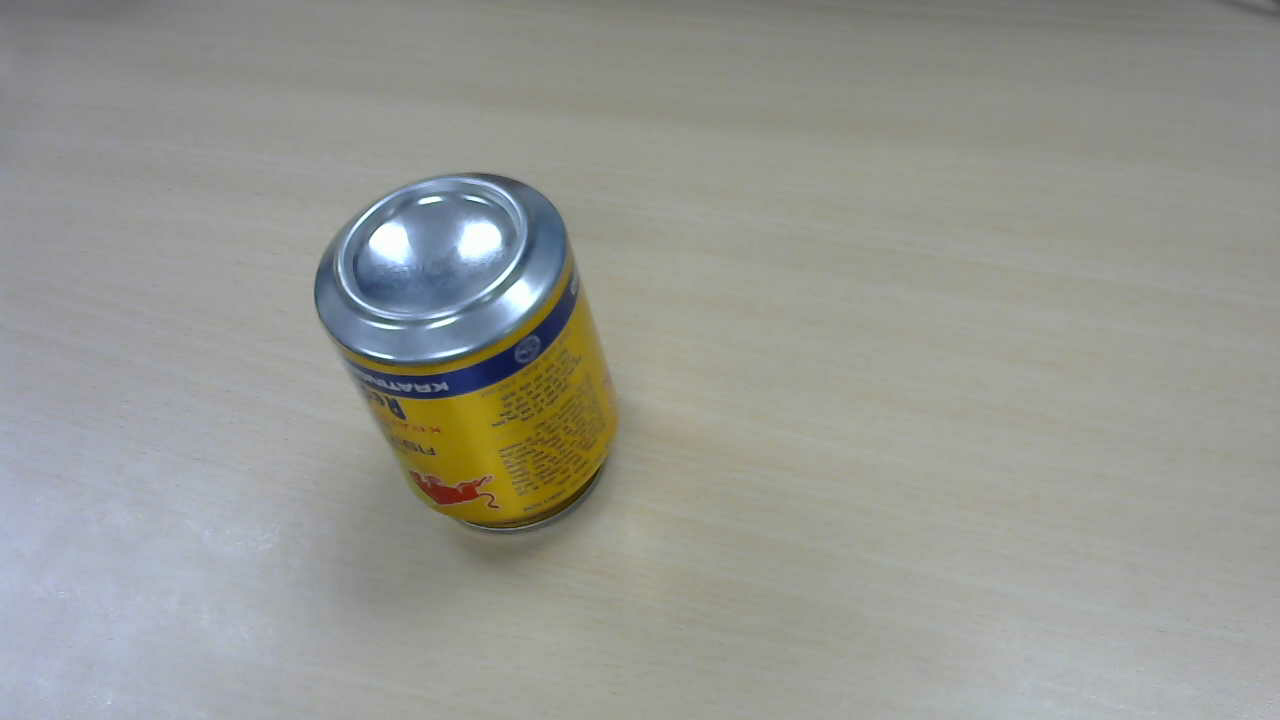Red_Bull: (316, 172, 622, 524)
